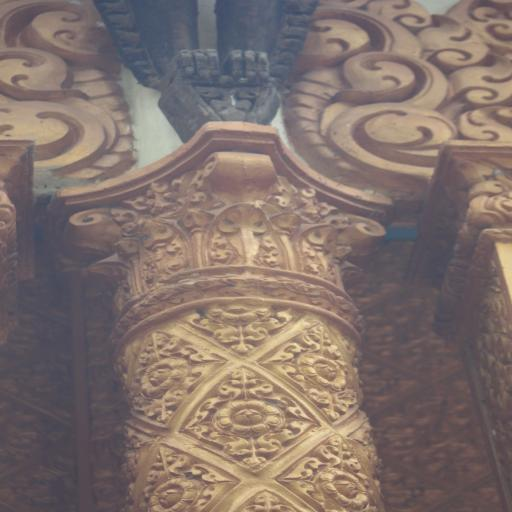hoa: (193, 363, 310, 471), (276, 323, 366, 415), (134, 322, 213, 421), (296, 432, 374, 512), (194, 302, 282, 357), (149, 448, 220, 511)
la: (203, 201, 286, 268), (134, 218, 193, 280), (294, 220, 338, 274)
lua: (301, 7, 512, 152), (0, 16, 108, 176)
